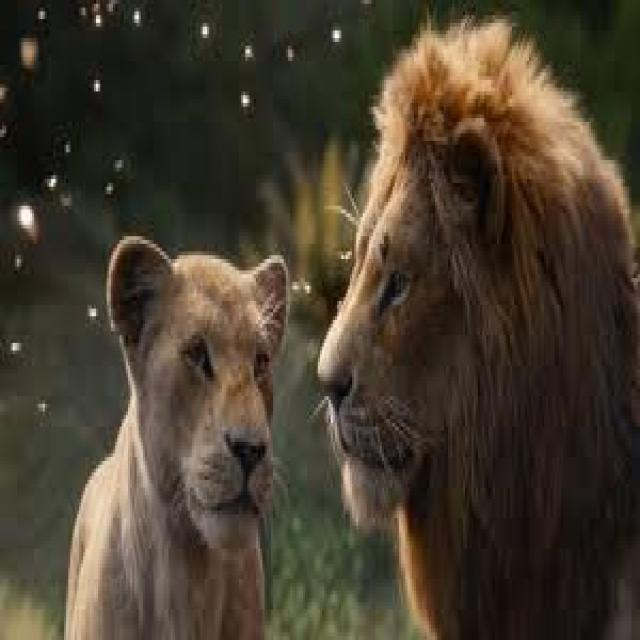Lion: (317, 22, 638, 633)
